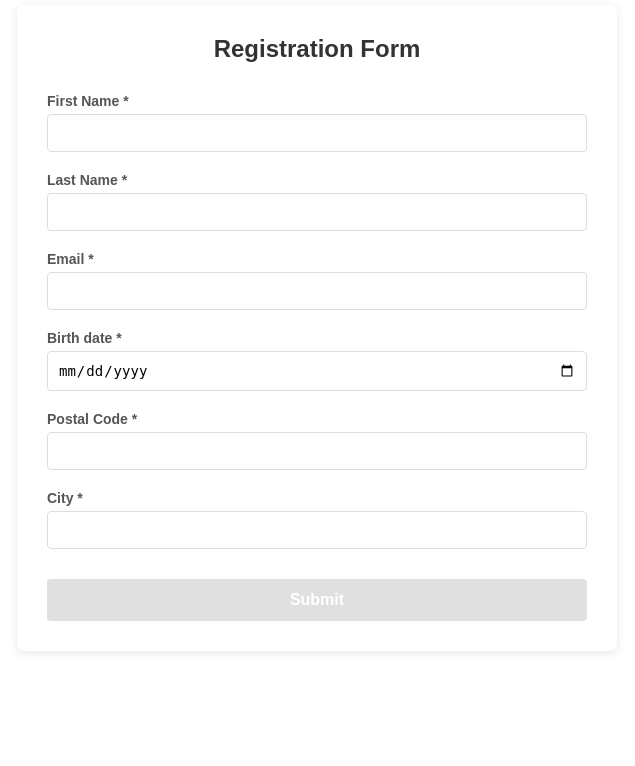
Test: UserForm - Integration Tests › should display multiple validation errors simultaneously
Type "A" into the field labelled "First Name *" at {"x": 317, "y": 133}, box [47,114,587,152]
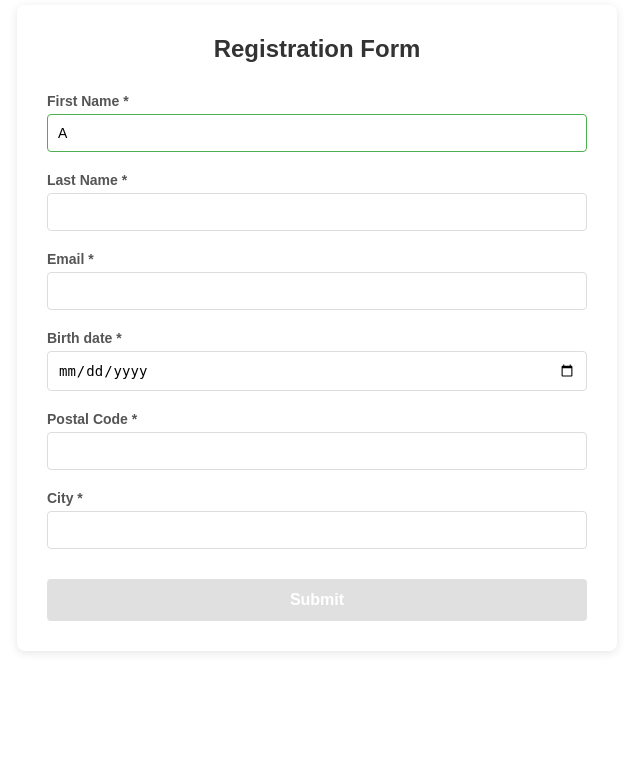
Press Tab
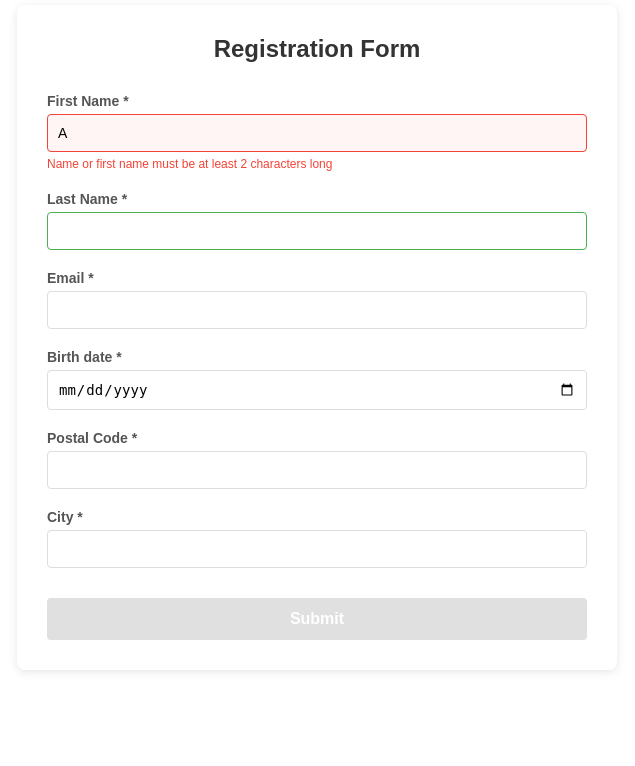
Type "bad" into the field labelled "Email *" at {"x": 317, "y": 310}, box [47,291,587,329]
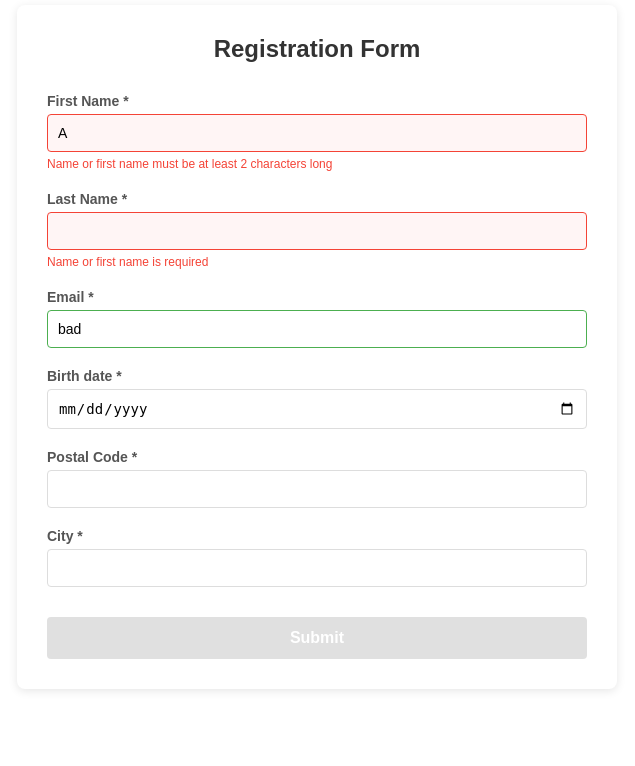
Press Tab
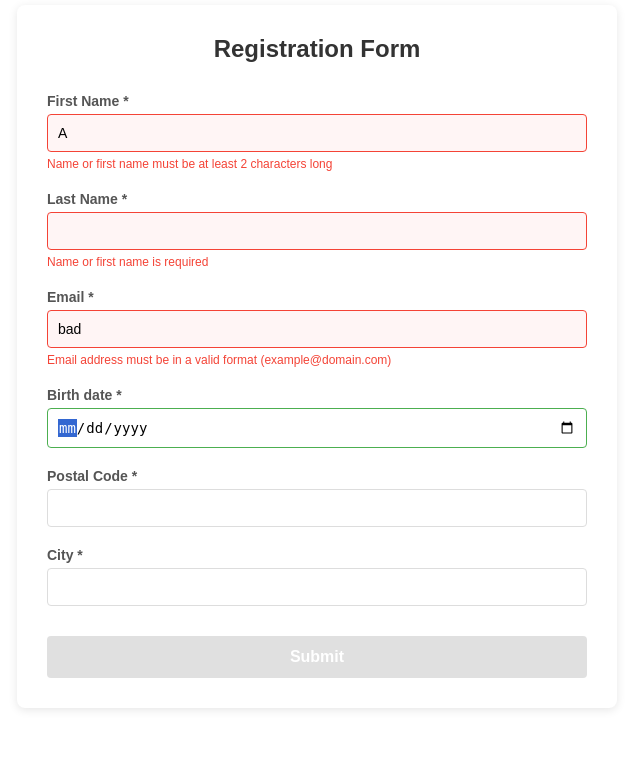
Type "12" into the field labelled "Postal Code *" at {"x": 317, "y": 508}, box [47,489,587,527]
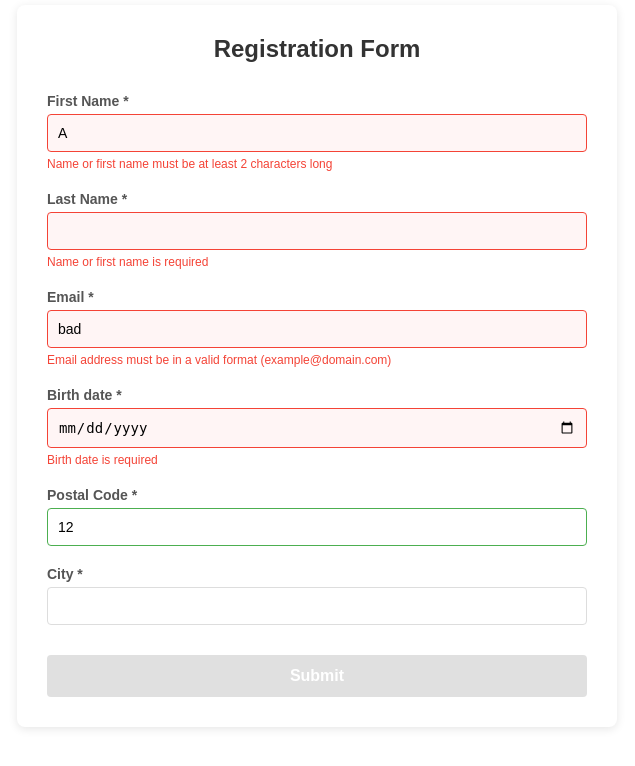
Press Tab
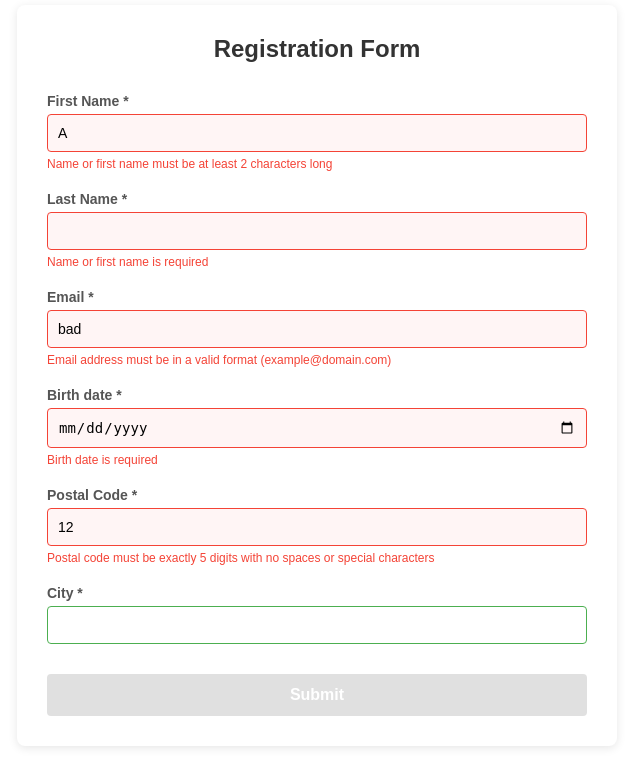
Expected: the text "Name or first name must be at least 2 characters long" is shown, [47,157,332,171]
Expected: the text "Email address must be in a valid format (example@domain.com)" is shown, [47,353,391,367]
Expected: the text "Postal code must be exactly 5 digits with no spaces or special characters" is shown, [47,551,434,565]
